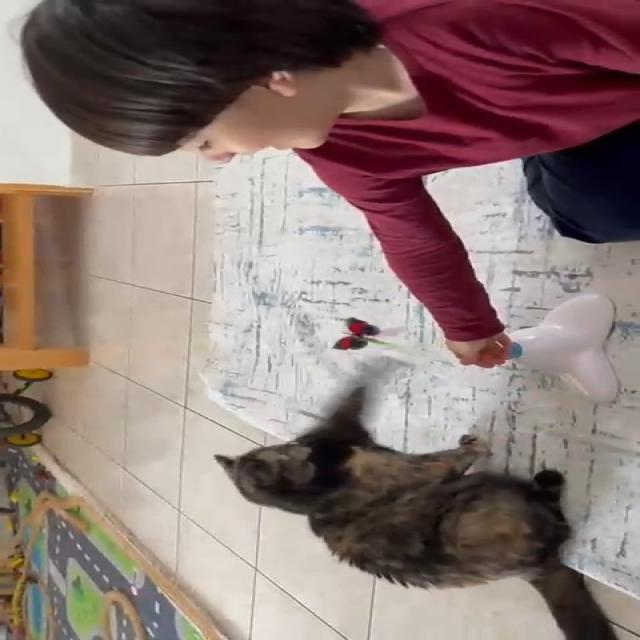authorized: (212, 385, 619, 638)
